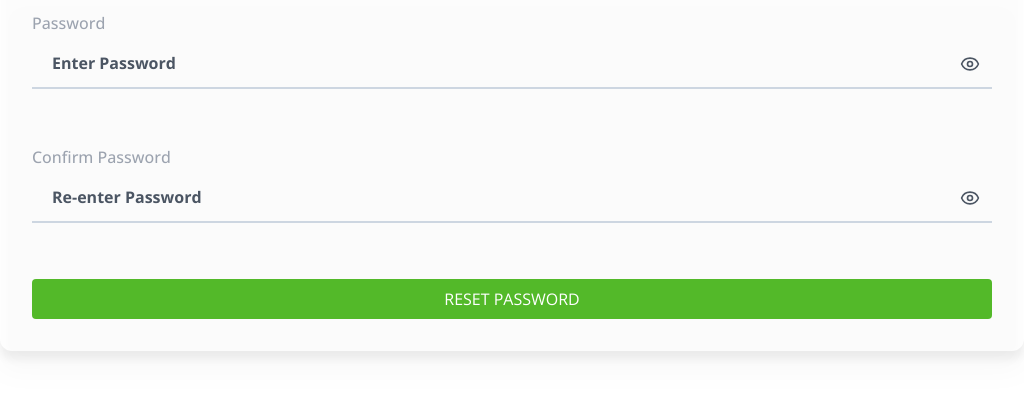
Test case: Set New Password Form Test › should dispay error when each of password dont match criteria
In the password field labelled "Password": (512, 64) 32,39 -> 992,89, type "123456789"
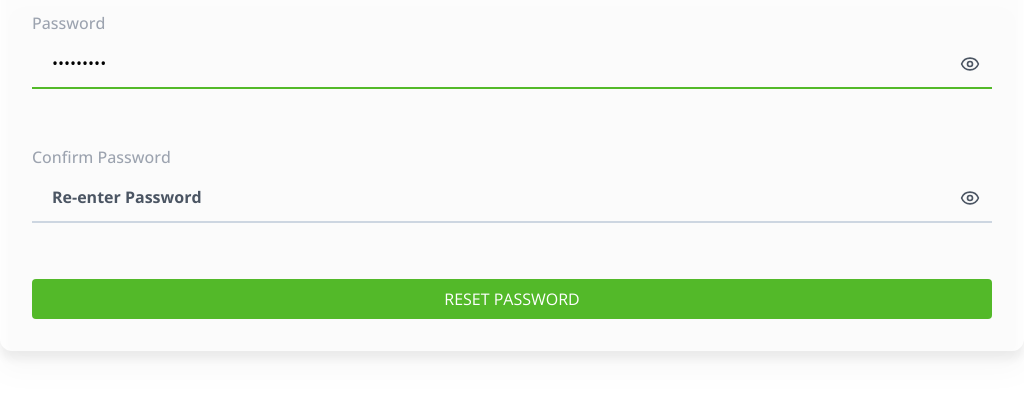
In the password field labelled "Confirm Password": (512, 198) 32,173 -> 992,223, type "123456789"
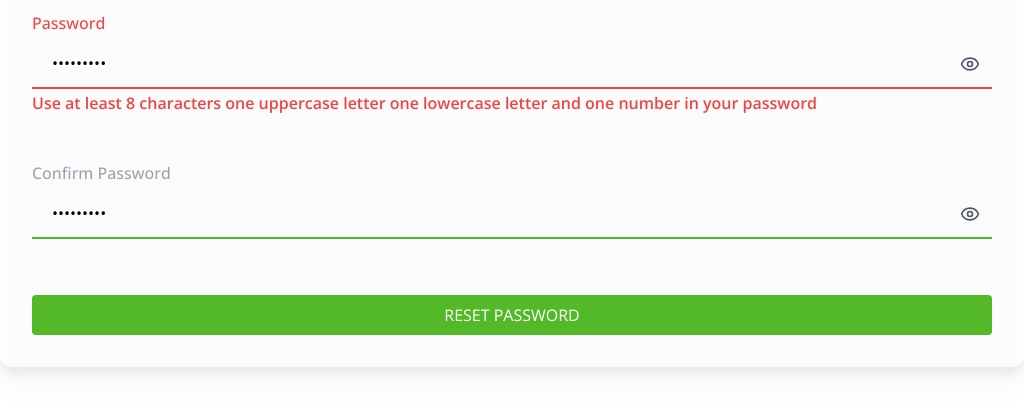
Click the button "Reset Password": (512, 315) 32,295 -> 992,335
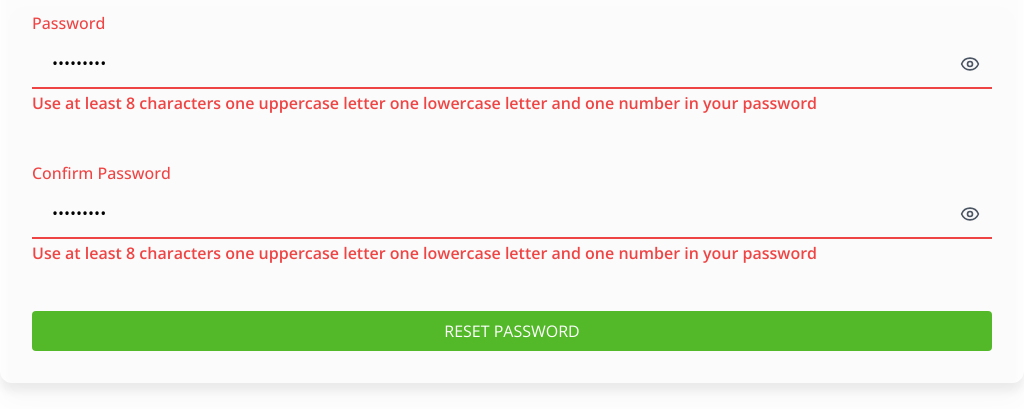
Result: the text "use at least 8 characters one uppercase letter one lowercase letter and one number in your password" is shown 2 times at 32,92 -> 817,114; 32,242 -> 817,264
